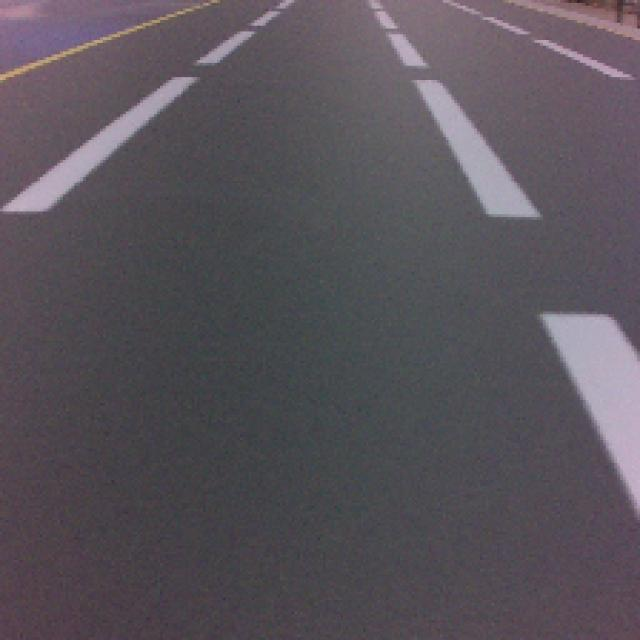Road: (0, 378, 639, 640)
